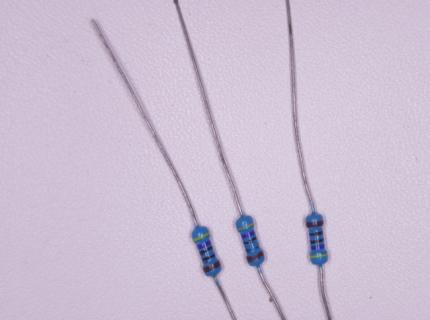Black band: (199, 246, 213, 255), (202, 253, 216, 262), (243, 237, 257, 245), (246, 245, 260, 252), (309, 230, 323, 236), (310, 238, 324, 244)
Brown band: (203, 260, 221, 273), (246, 251, 264, 262), (306, 220, 324, 227)
Violet band: (197, 240, 212, 250), (241, 231, 255, 239), (311, 243, 325, 250)
Yellow band: (192, 231, 211, 243), (237, 223, 255, 231), (310, 252, 328, 258)
